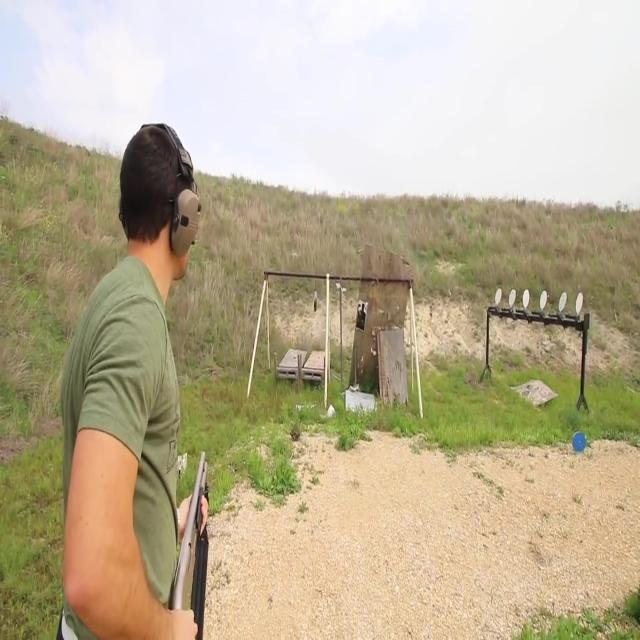Weapon: (158, 427, 236, 640)
